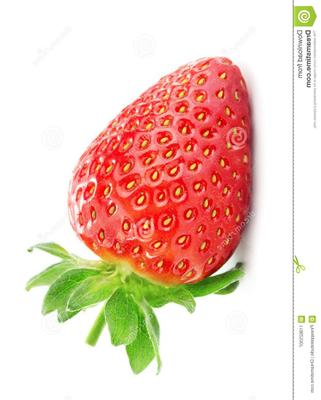strawberry: (0, 0, 321, 400)
